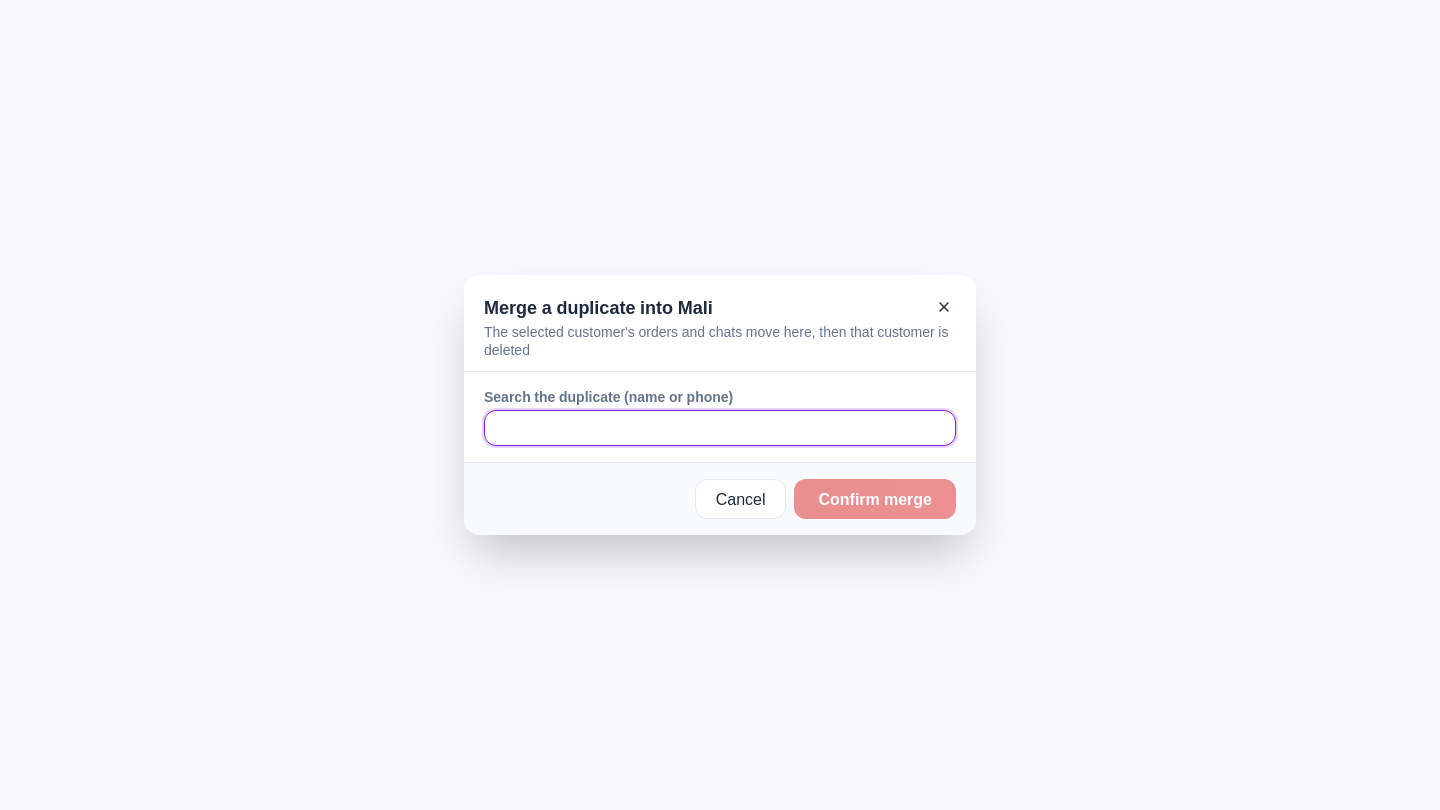
MergeCustomerDialog › API ລົ້ມ: ສະແດງຂໍ້ຜິດພາດ ແລະ ບໍ່ປິດ
This screenshot has width=1440, height=810.
Step 1. Type "mali" into the search field labelled "Search the duplicate (name or phone)" → [720, 428], box [484, 410, 956, 446]
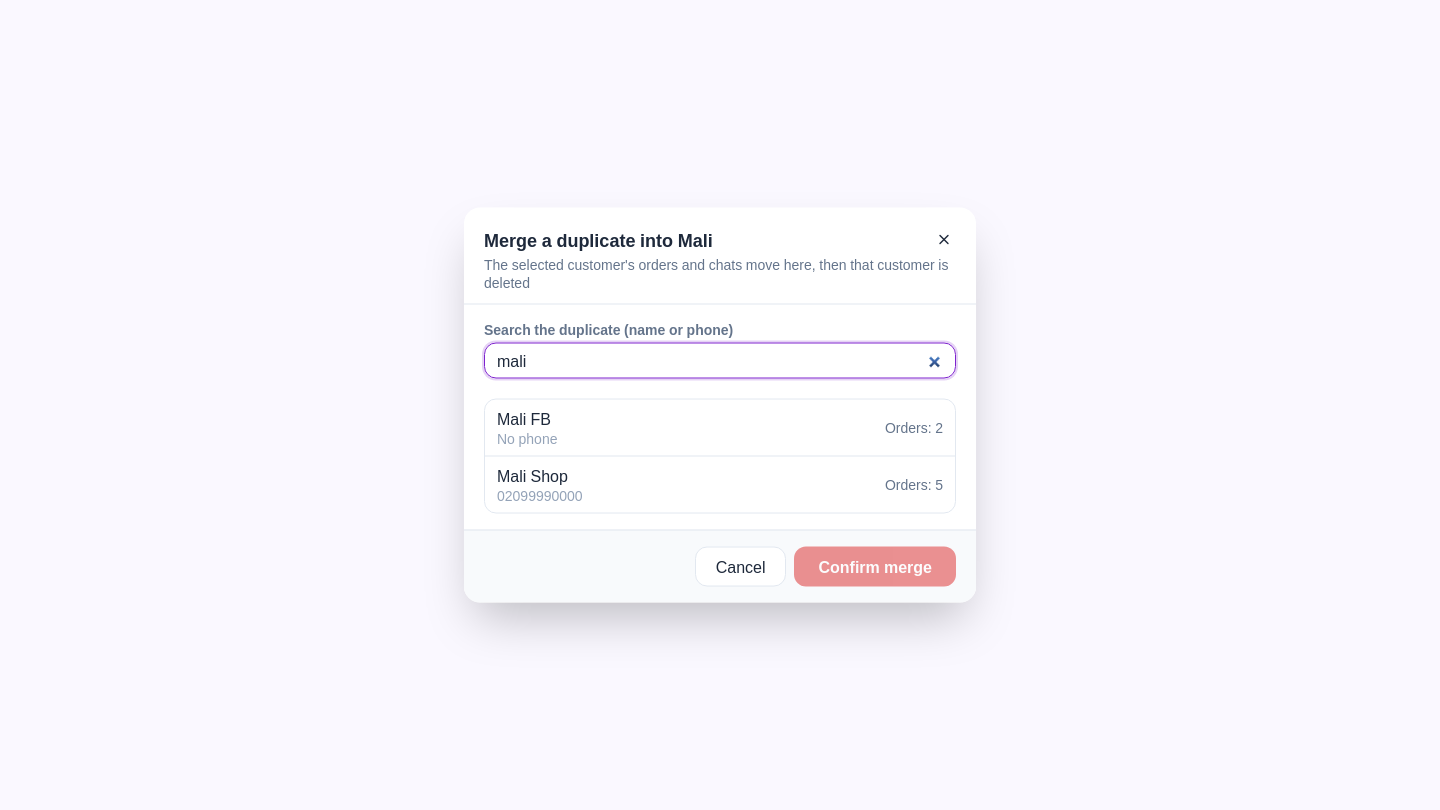
Step 2. Click the button with aria-label "Select Mali FB" → [524, 418], box [485, 400, 955, 456]
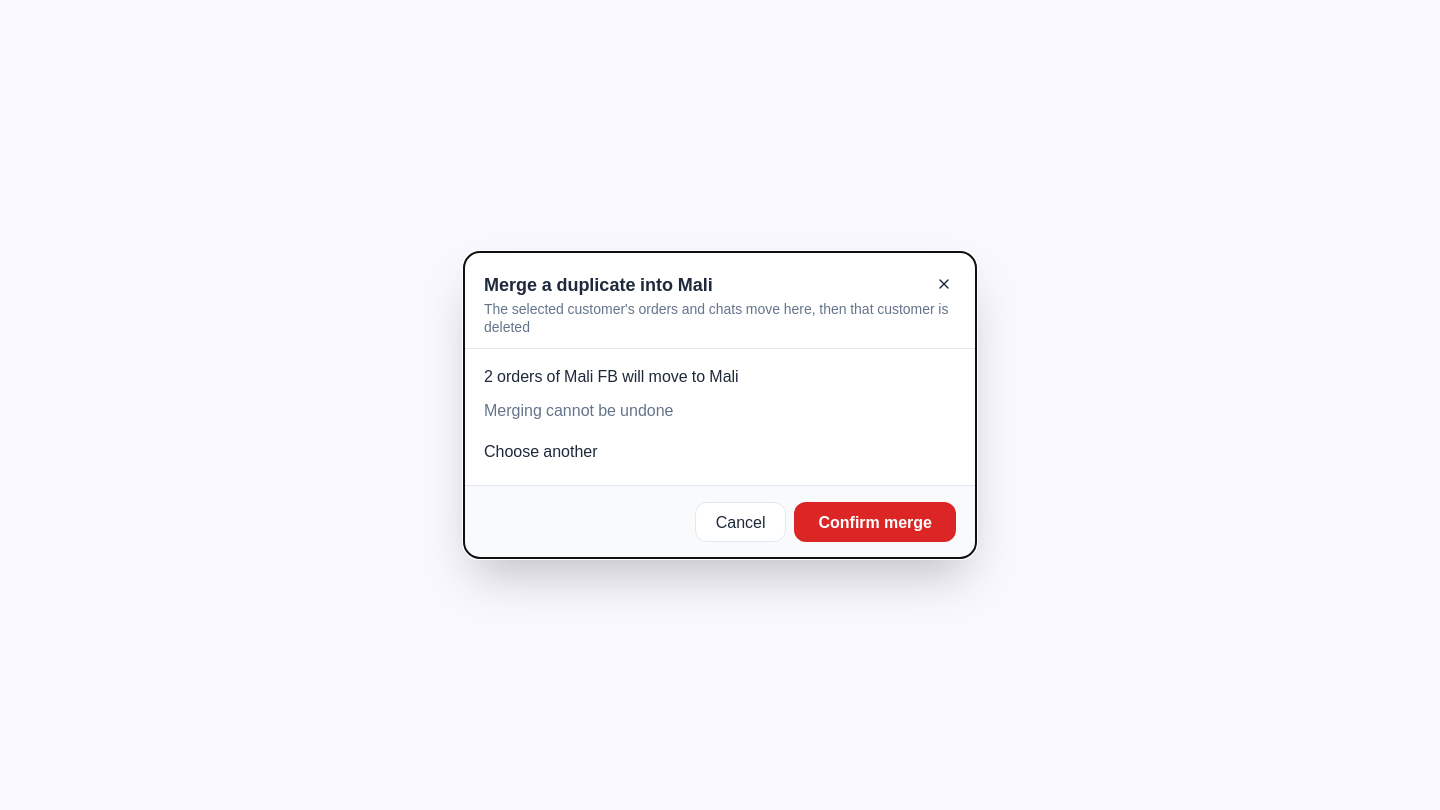
Step 3. Click the button "Confirm merge" → [875, 522], box [794, 502, 956, 542]
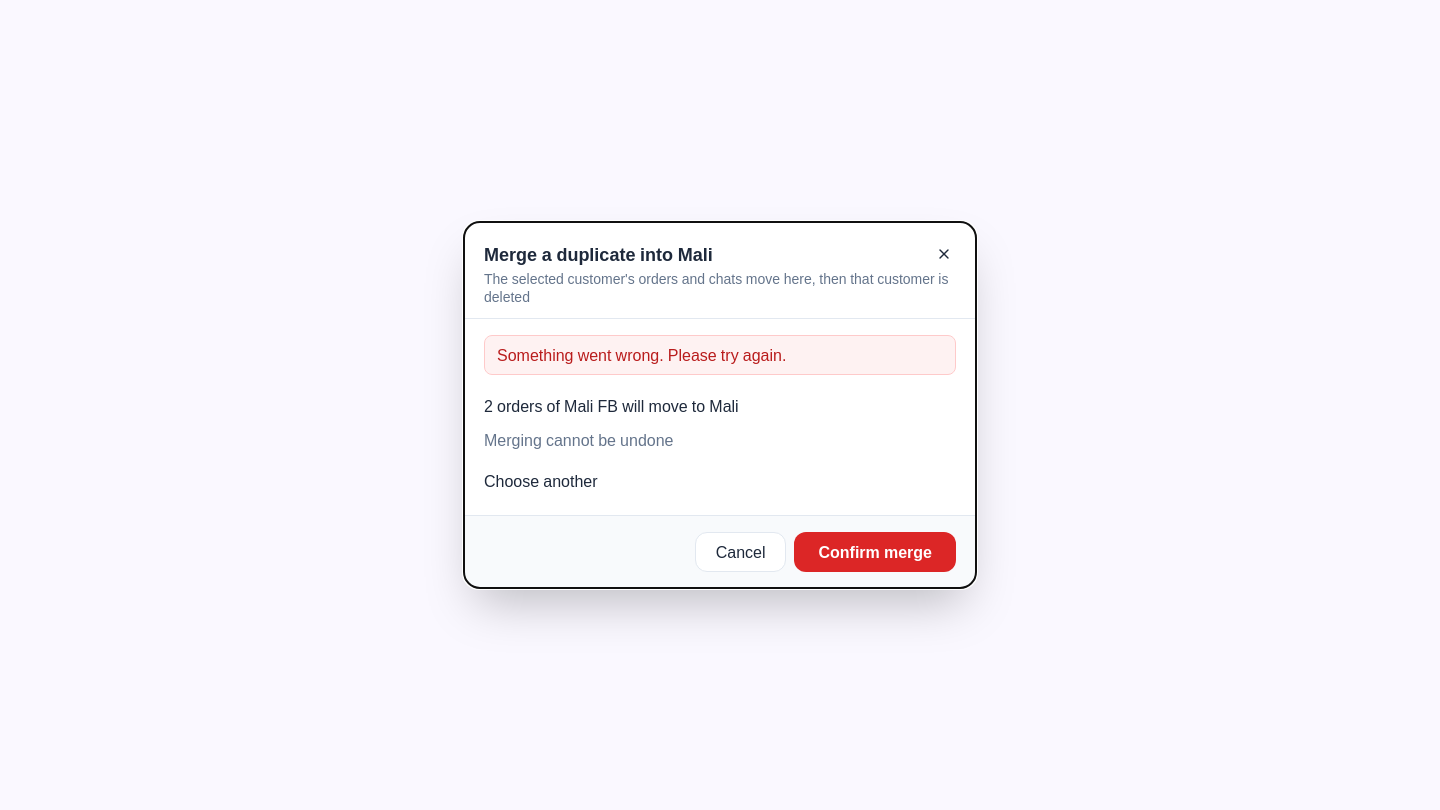
Result: the message "Something went wrong. Please try again." is shown at [484, 335, 956, 375]
